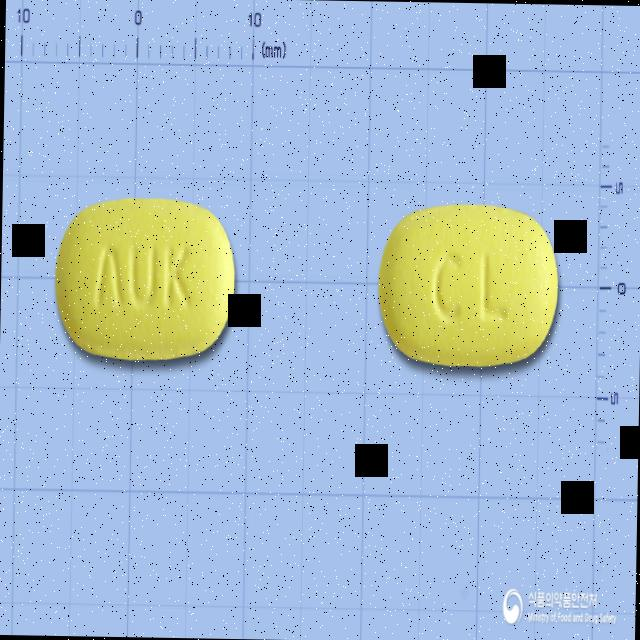Auscle - 500mg: (50, 189, 238, 371)
